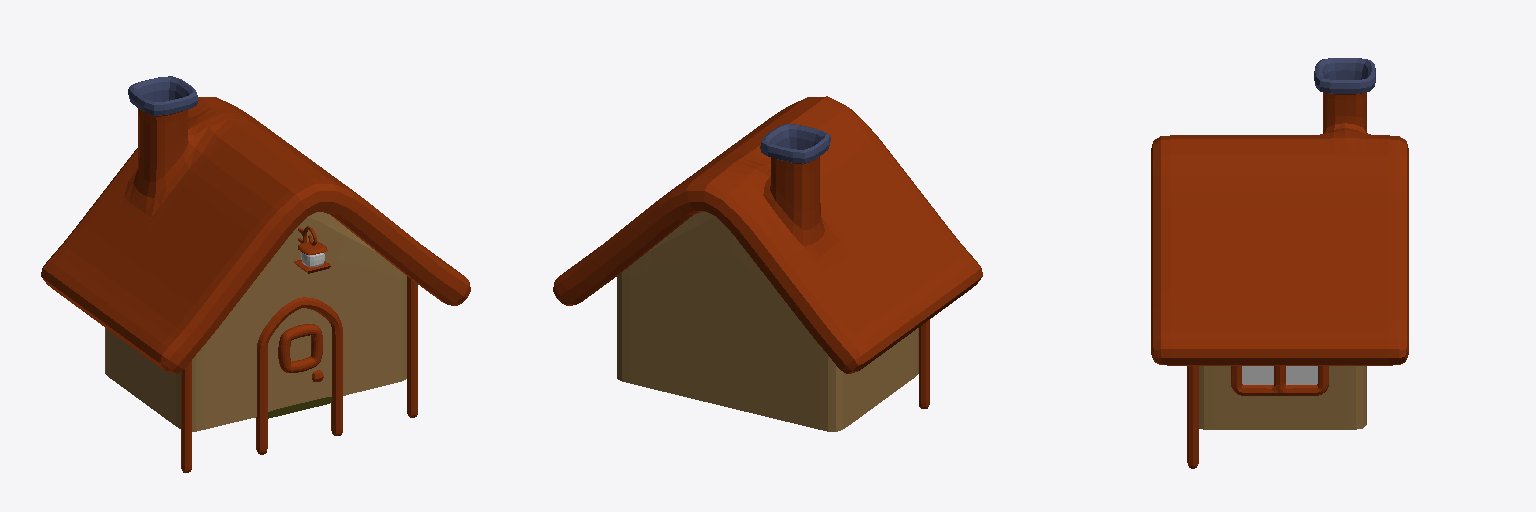
File: cottage.obj
The picture shows the model from 3 angles: view 1: azimuth 30°, elevation 25°; view 2: azimuth 150°, elevation 25°; view 3: azimuth 270°, elevation 25°; orthographic projection.
Parts seen in each view (by area): view 1: Roof_Plane.004; view 2: Roof_Plane.004; view 3: Roof_Plane.004.
Boxes of the visible parts, x1=… form: Roof_Plane.004: x1=41, y1=76, x2=470, y2=472; Roof_Plane.004: x1=553, y1=96, x2=982, y2=431; Roof_Plane.004: x1=1151, y1=58, x2=1408, y2=468.
Bounding box in the file's own units: 8.28 × 8 × 5.96.